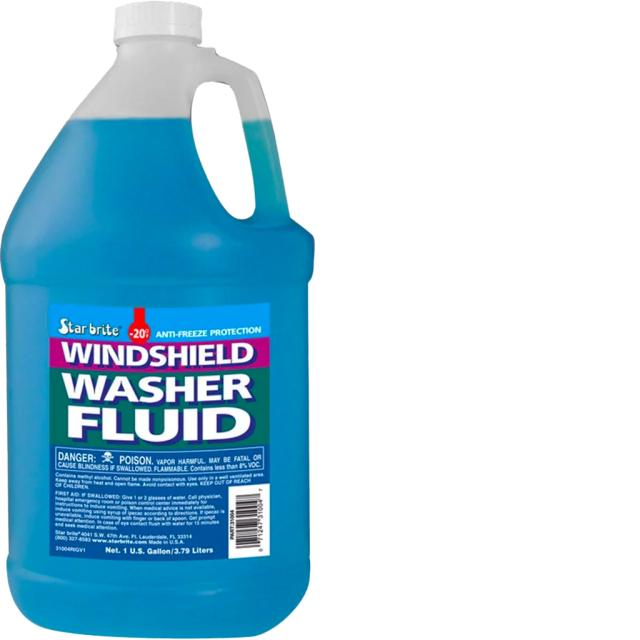winwinshield_washer: (0, 3, 329, 637)
